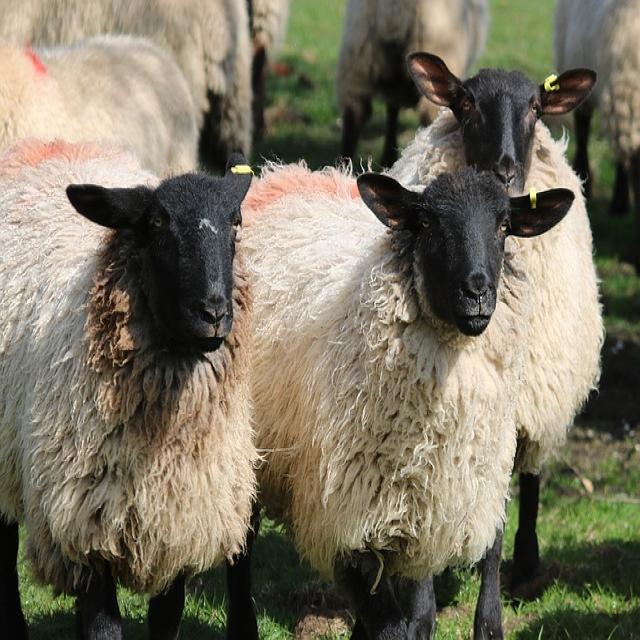goat: (242, 168, 574, 638), (0, 140, 256, 638), (390, 52, 604, 585)
